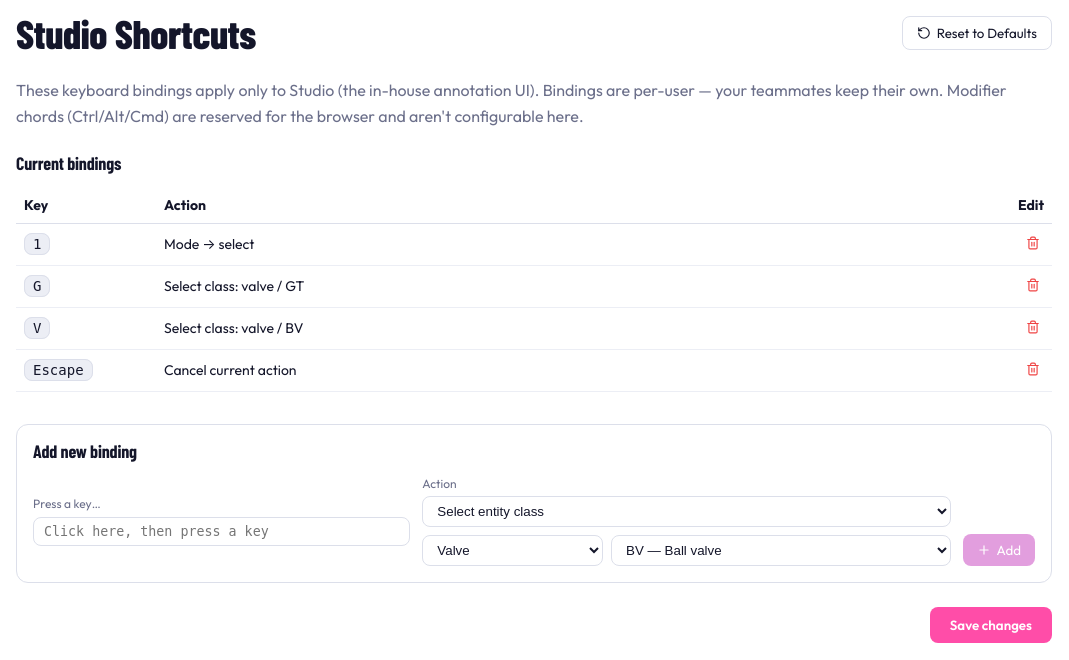
Test: Shortcuts page › selecting action=select-class shows sub_class picker
This screenshot has width=1069, height=660.
Expected: the row with test id "shortcuts-row-v" is shown, x1=16 y1=308 x2=1052 y2=350
Expected: the dropdown with test id "shortcuts-new-entity-class" is shown, x1=422 y1=535 x2=603 y2=566
Switch to "mode" — sub_class picker should disappear, mode picker shows.
Select "Switch mode" in the dropdown with test id "shortcuts-new-action" at (686, 512), box x1=422 y1=496 x2=951 y2=527
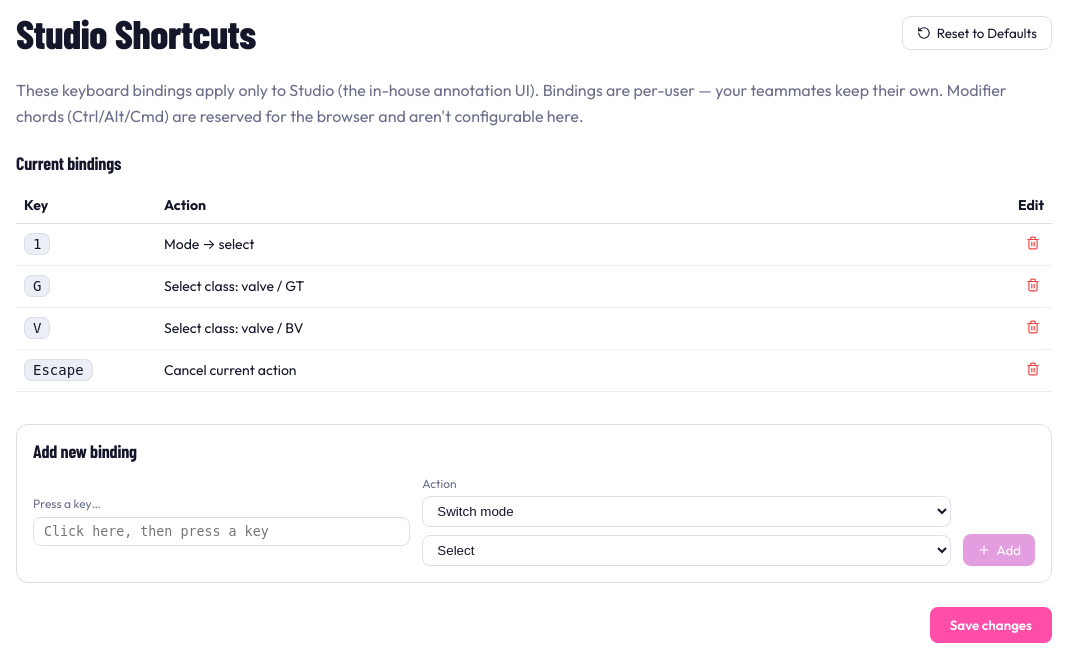
Expected: the dropdown with test id "shortcuts-new-sub-class" is gone
Expected: the dropdown with test id "shortcuts-new-mode" is shown, x1=422 y1=535 x2=951 y2=566
Switch back to select-class — sub_class picker should be back.
Select "Select entity class" in the dropdown with test id "shortcuts-new-action" at (686, 512), box x1=422 y1=496 x2=951 y2=527
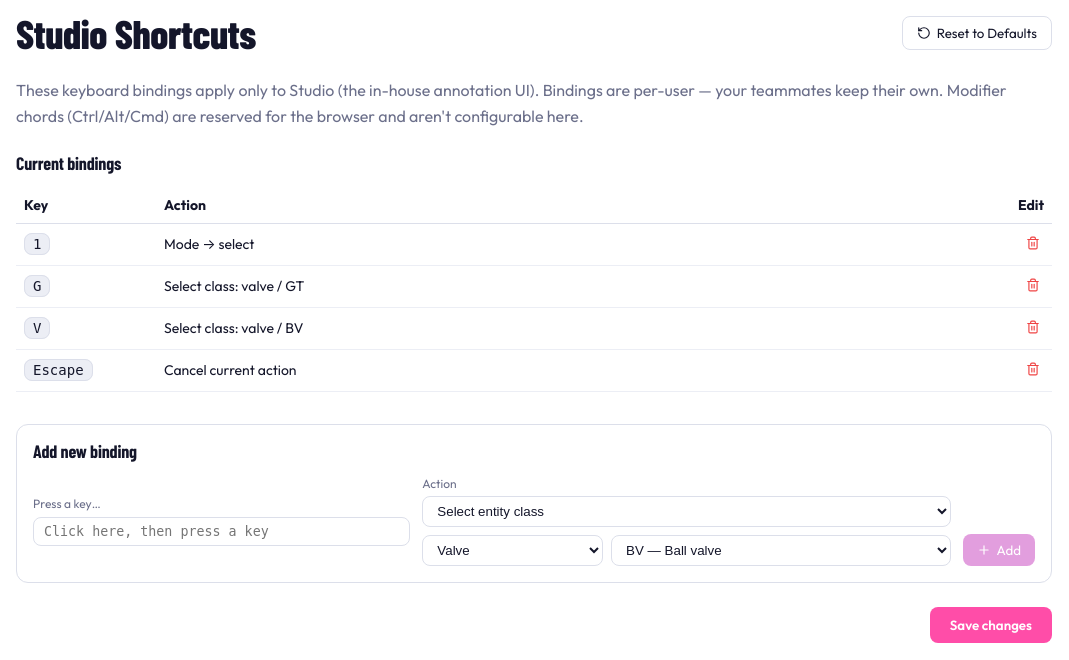
Expected: the dropdown with test id "shortcuts-new-sub-class" is shown, x1=611 y1=535 x2=951 y2=566
